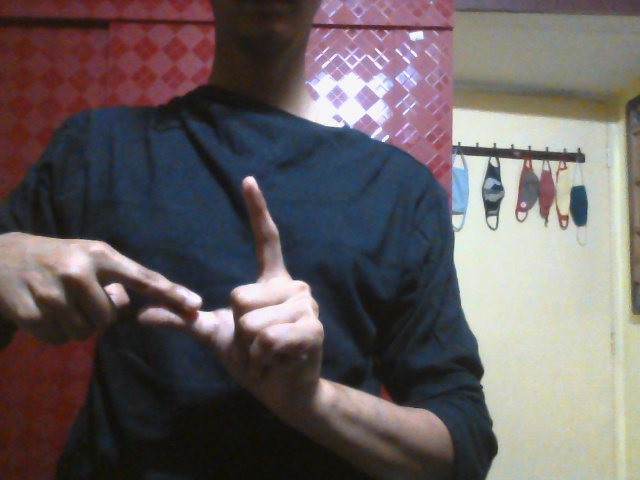J: (27, 173, 325, 387)
